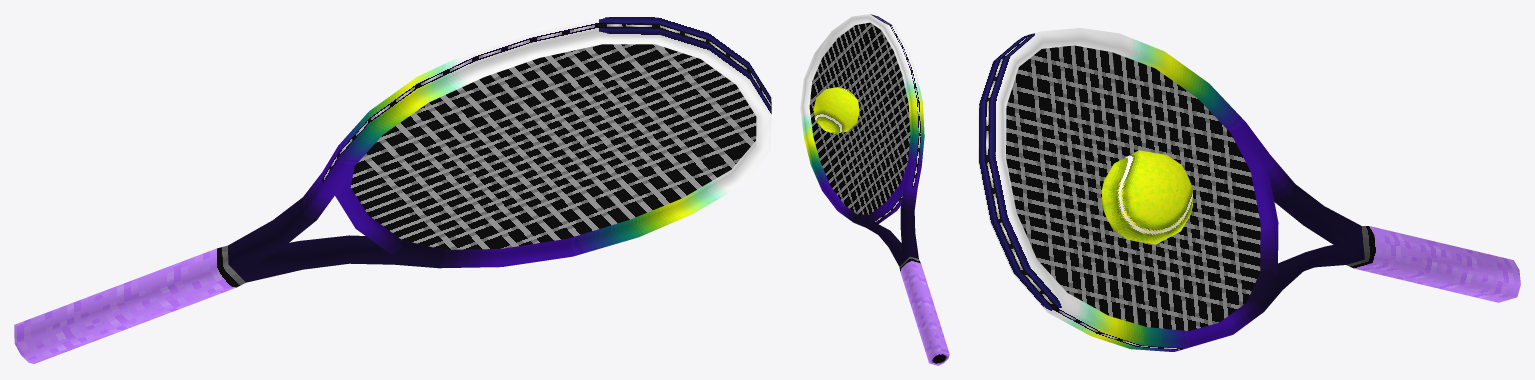
File: ps2_save-icons_segasportstennis.glb
The picture shows the model from 3 angles, left to right: view 1: azimuth 30°, elevation 25°; view 2: azimuth 150°, elevation 25°; view 3: azimuth 270°, elevation 25°; orthographic projection. The views are drawn at different scales.
Parts seen in each view (by area): view 1: i0.ico; view 2: i0.ico; view 3: i0.ico.
Part boxes in pixels (x1=…): i0.ico: x1=14, y1=16, x2=771, y2=363; i0.ico: x1=800, y1=14, x2=949, y2=365; i0.ico: x1=978, y1=28, x2=1520, y2=351.
Bounding box in the file's own units: 3.46 × 2.75 × 3.11.
Materials: 1 (1 with a texture image).
